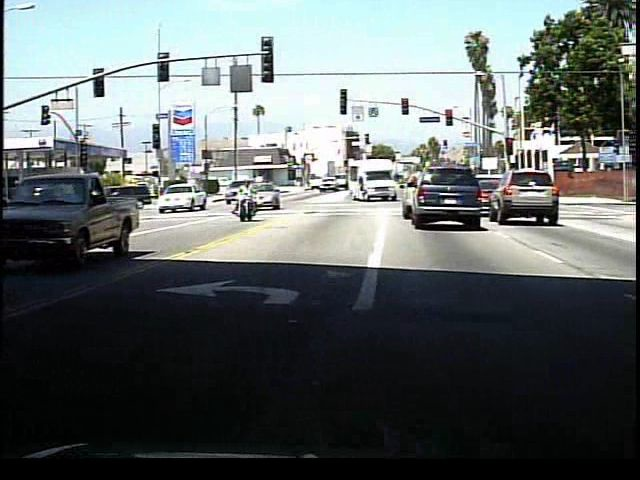person: (234, 180, 258, 224)
